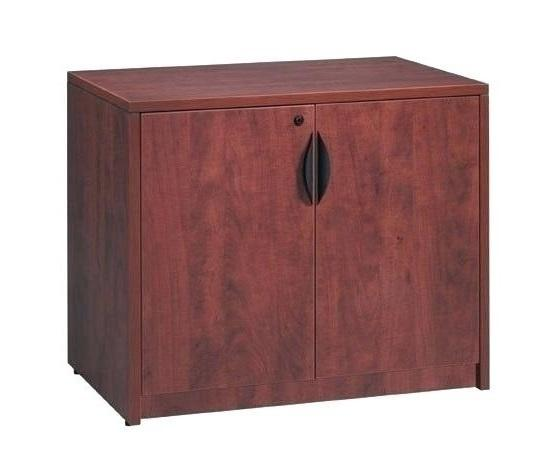cabinet_door: (140, 106, 314, 384), (315, 103, 479, 373)
handle: (296, 132, 318, 205), (312, 130, 332, 203), (292, 113, 308, 131)
